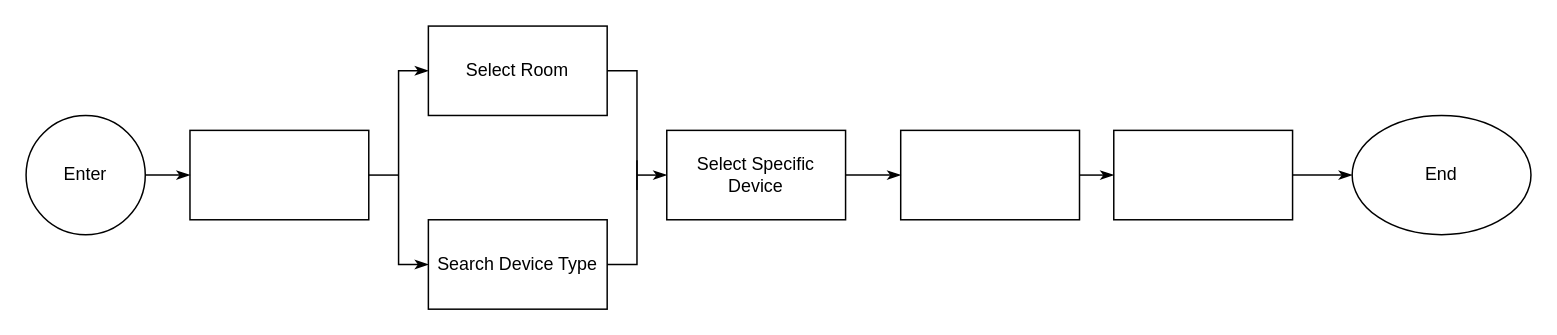
Image size: 1557x335. Some labels were removed from this diagram. The box of each missing label's shape, as (x1, y1, x2, y2) in pixels:
Dashboard: (188, 129, 369, 220)
Device Status: (899, 129, 1080, 220)
Select Status/Action: (1112, 129, 1293, 220)
